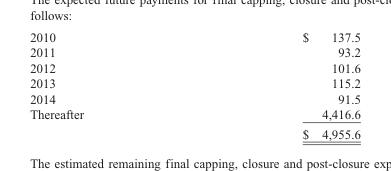table: (29, 29, 359, 140)
table column: (192, 29, 359, 140), (29, 29, 192, 140)
table row: (29, 106, 359, 123), (29, 123, 359, 140), (29, 59, 359, 75), (29, 90, 359, 106), (29, 29, 359, 44), (29, 44, 359, 59), (29, 75, 359, 90)
